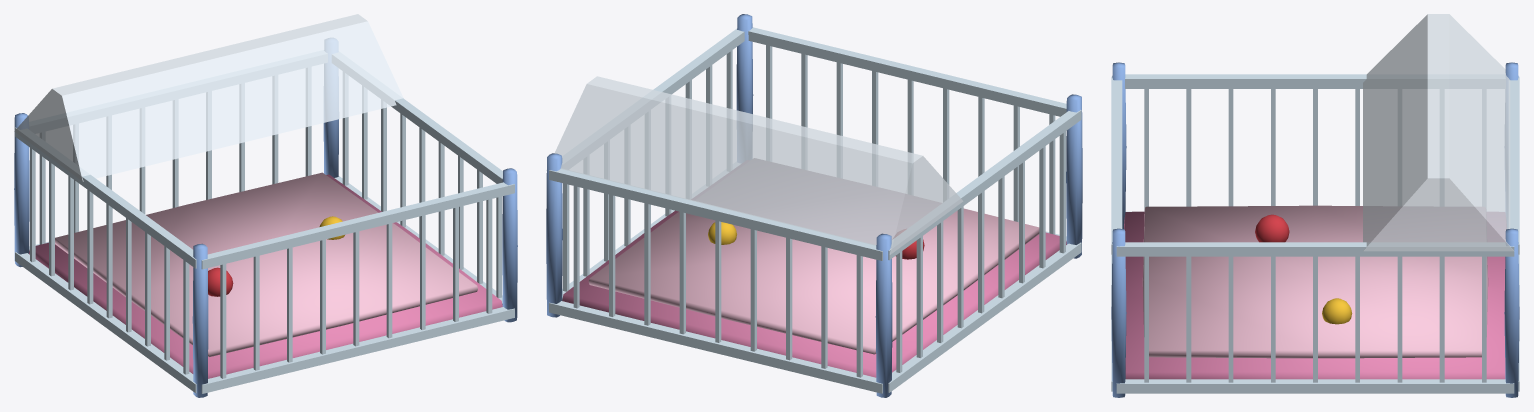
File: dog_bed.glb
The picture shows the model from 3 angles, left to right: view 1: azimuth 30°, elevation 25°; view 2: azimuth 150°, elevation 25°; view 3: azimuth 270°, elevation 25°; orthographic projection. The views are drawn at different scales.
Visible parts, largest first — view 1: root; view 2: root; view 3: root.
Boxes of the visible parts, x1,y1,x2,y2 form: root: (14, 14, 517, 397); root: (546, 14, 1082, 397); root: (1111, 14, 1519, 397).
Size of the model in its own units: 1.9 by 1.12 by 1.89.
